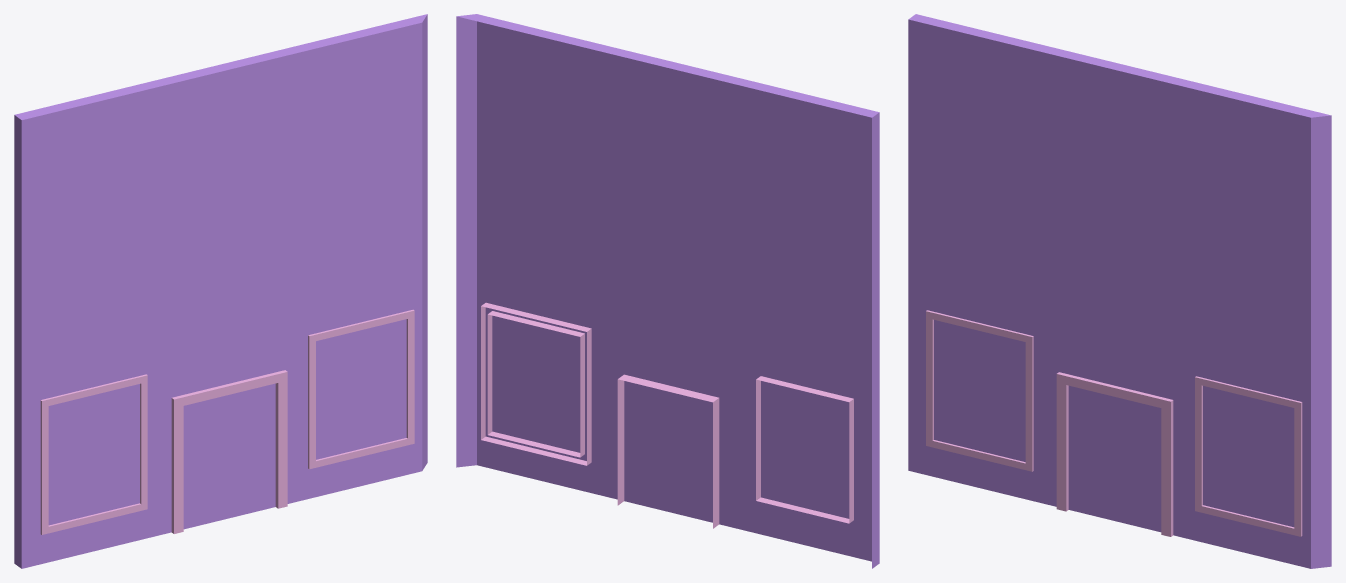
The model's file is Restaurant Walls.fbx.
3 views of the same model, side by side, from view 1: azimuth 30°, elevation 25°; view 2: azimuth 150°, elevation 25°; view 3: azimuth 330°, elevation 25° (orthographic).
Parts seen in each view (by area): view 1: Restaurant Wall 05 Red, Restaurant Wall 01 Red; view 2: Restaurant Wall 01 Red, Restaurant Wall 05 Red; view 3: Restaurant Wall 05 Red, Restaurant Wall 01 Red.
Part boxes in pixels (bbox=[...]): Restaurant Wall 05 Red: bbox=[14, 14, 427, 568]; Restaurant Wall 01 Red: bbox=[16, 14, 427, 568]; Restaurant Wall 01 Red: bbox=[456, 14, 879, 561]; Restaurant Wall 05 Red: bbox=[456, 15, 879, 568]; Restaurant Wall 05 Red: bbox=[908, 14, 1331, 568]; Restaurant Wall 01 Red: bbox=[908, 14, 1331, 568].
Size of the model in its own units: 450 by 467 by 18.64.
